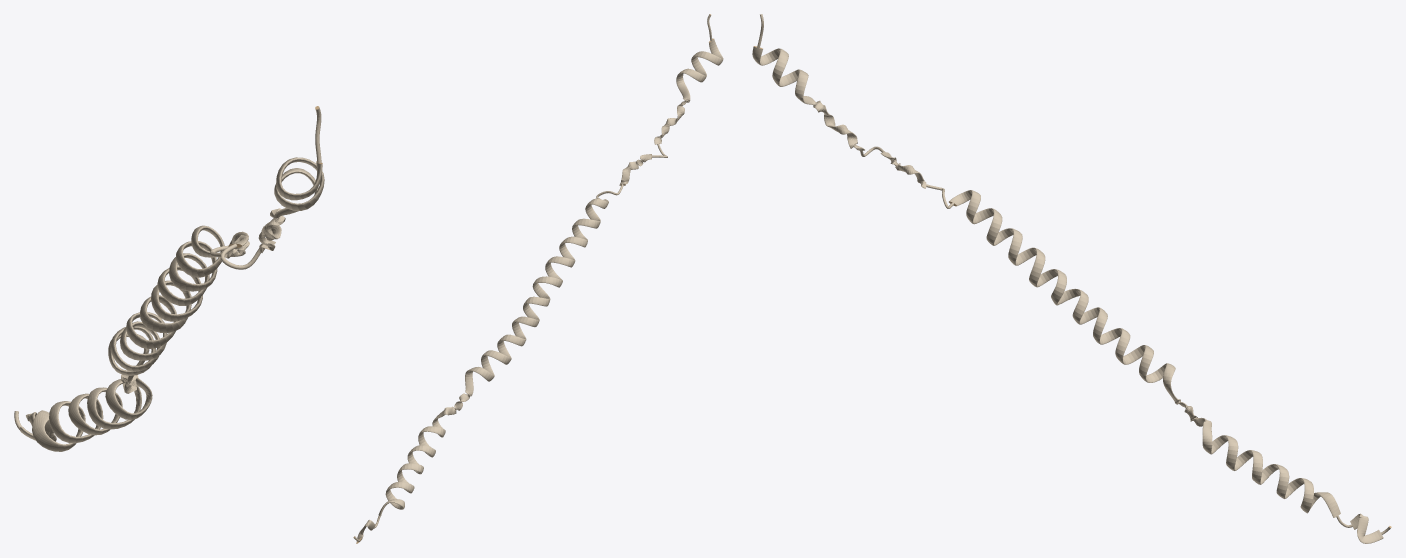
Rendered from HelixHelixHelix.dae.
3 views of the same model, side by side, from view 1: azimuth 30°, elevation 25°; view 2: azimuth 150°, elevation 25°; view 3: azimuth 270°, elevation 25° (orthographic). The views are drawn at different scales.
Parts seen in each view (by area): view 1: Shape_IndexedTriangleStripSet_098; view 2: Shape_IndexedTriangleStripSet_098; view 3: Shape_IndexedTriangleStripSet_098.
Part boxes in pixels (bbox=[...]): Shape_IndexedTriangleStripSet_098: bbox=[14, 106, 324, 451]; Shape_IndexedTriangleStripSet_098: bbox=[353, 14, 723, 543]; Shape_IndexedTriangleStripSet_098: bbox=[752, 14, 1391, 543].
Bounding box in the file's own units: 32.72 × 116 × 92.82.
